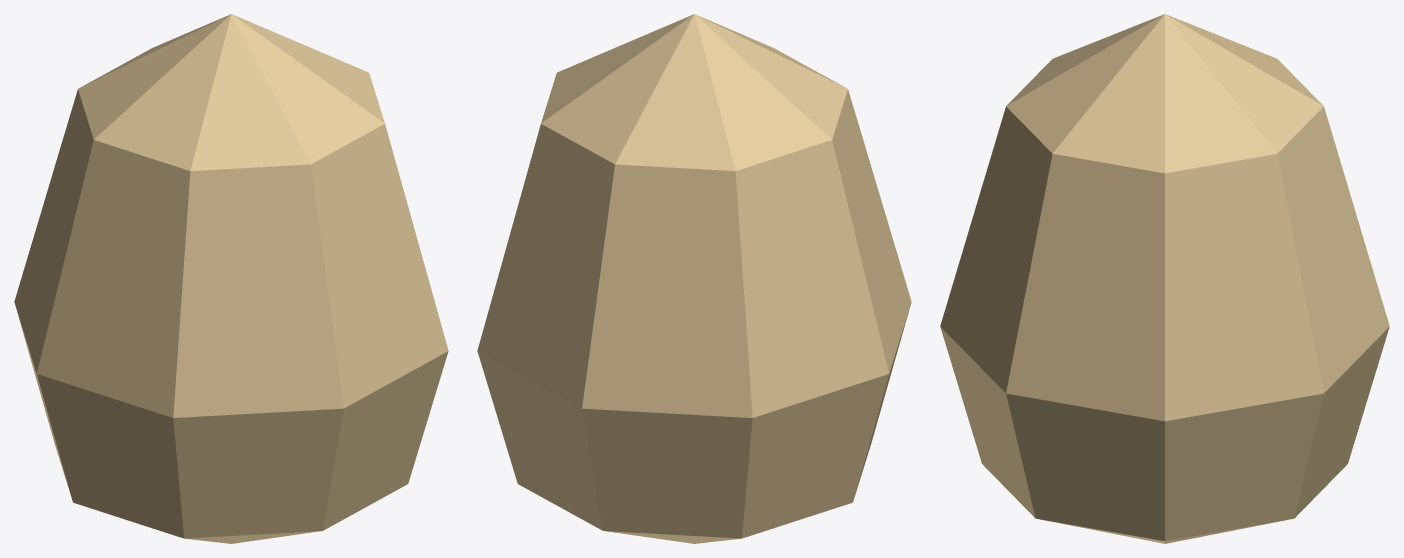
The model's file is Egg.fbx.
The picture shows the model from 3 angles, left to right: view 1: azimuth 30°, elevation 25°; view 2: azimuth 150°, elevation 25°; view 3: azimuth 270°, elevation 25°; orthographic projection.
Parts seen in each view (by area): view 1: Egg; view 2: Egg; view 3: Egg.
Boxes of the visible parts, bbox=[...] form: Egg: bbox=[14, 14, 448, 543]; Egg: bbox=[477, 14, 911, 543]; Egg: bbox=[940, 14, 1389, 543].
Bounding box in the file's own units: 35.75 × 46.5 × 35.75.
